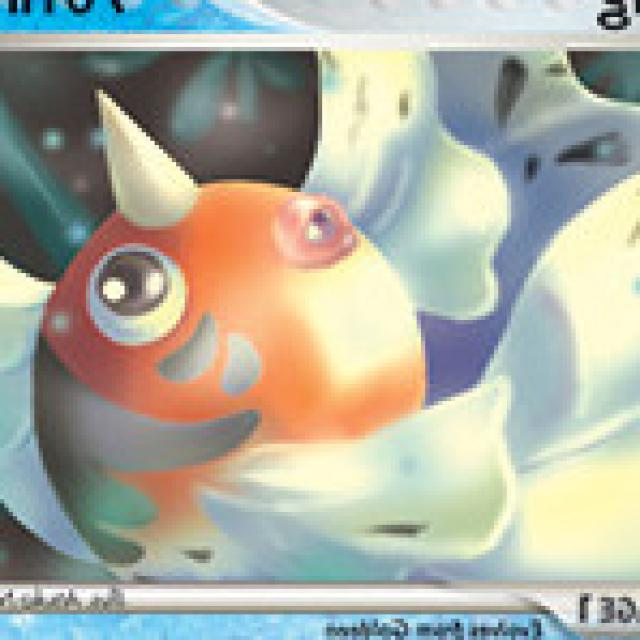Seaking: (29, 86, 437, 584)
